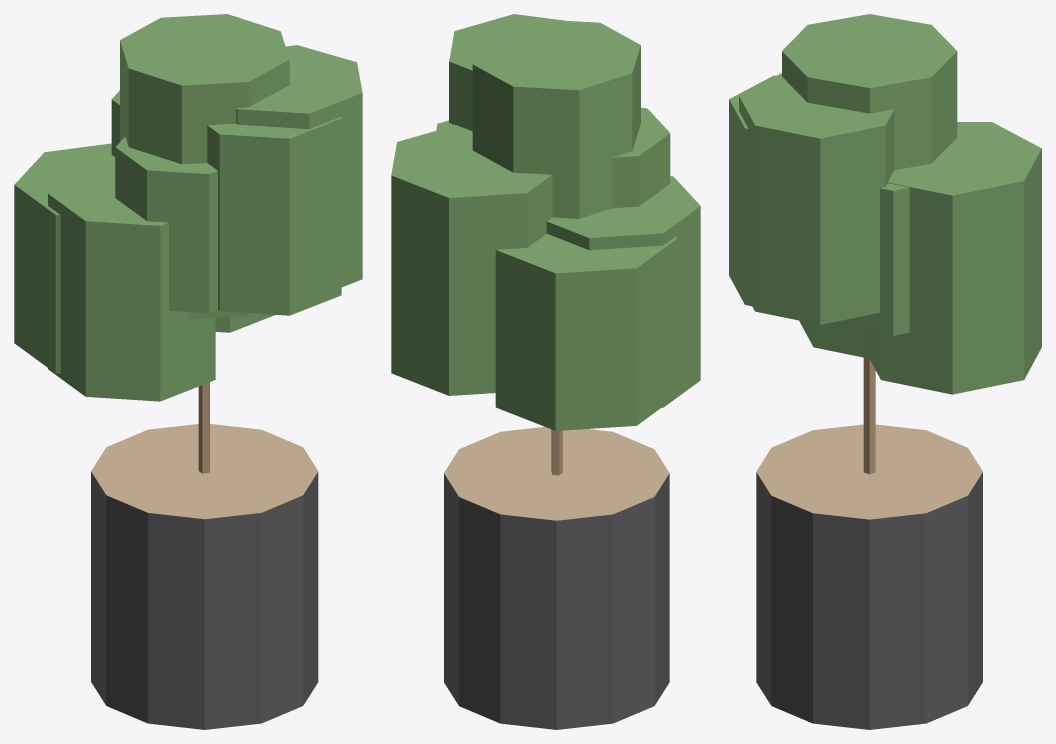
File: Plant_Pot.fbx
The picture shows the model from 3 angles, left to right: view 1: azimuth 30°, elevation 25°; view 2: azimuth 150°, elevation 25°; view 3: azimuth 270°, elevation 25°; orthographic projection.
Visible parts, largest first — view 1: Plant_Pot; view 2: Plant_Pot; view 3: Plant_Pot.
Part boxes in pixels (x1=…): Plant_Pot: x1=14, y1=14, x2=362, y2=729; Plant_Pot: x1=391, y1=14, x2=700, y2=729; Plant_Pot: x1=729, y1=14, x2=1041, y2=729.
Bounding box in the file's own units: 0.5881 × 1.35 × 0.6063.
